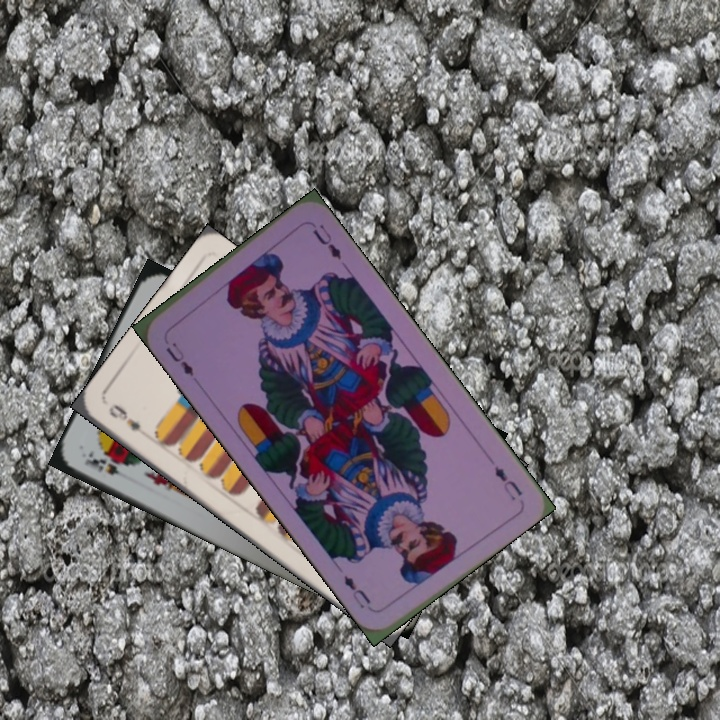E9: (104, 400, 144, 434)
EU: (490, 461, 526, 503), (161, 338, 197, 379)
SK: (80, 446, 134, 484)
